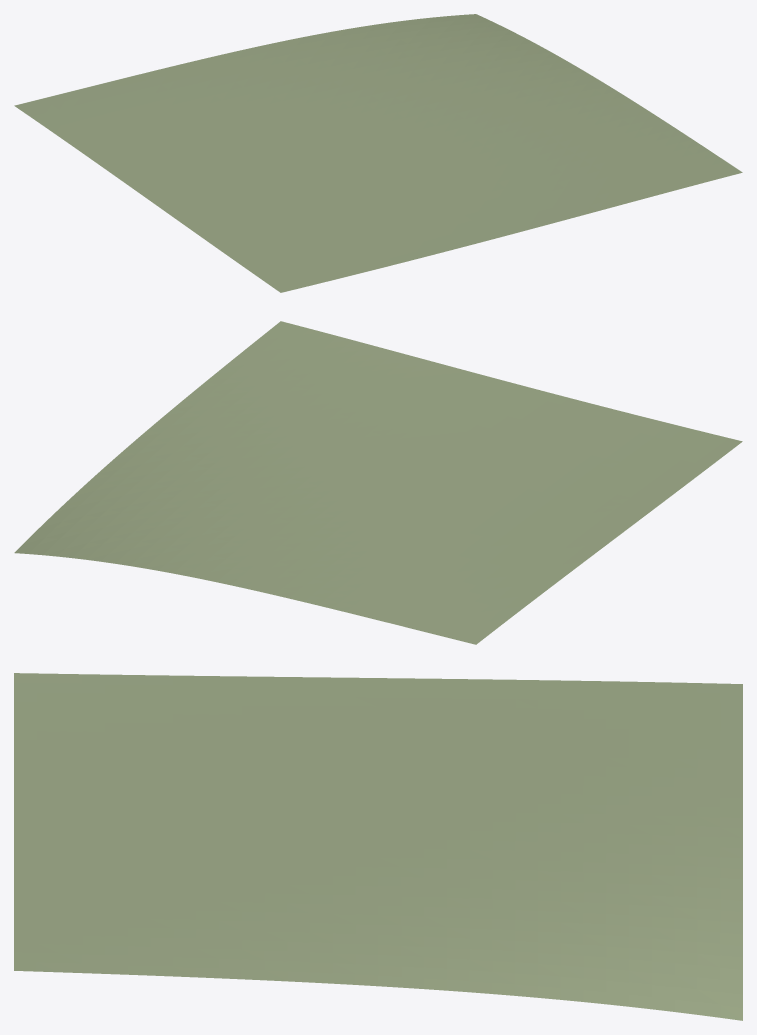
File: expanse-8-11.glb
The picture shows the model from 3 angles, top to bottom: view 1: azimuth 30°, elevation 25°; view 2: azimuth 150°, elevation 25°; view 3: azimuth 270°, elevation 25°; orthographic projection. The views are drawn at different scales.
Visible parts, largest first — view 1: expanse-8-11; view 2: expanse-8-11; view 3: expanse-8-11.
Part boxes in pixels (x1,y1,x2,y2): expanse-8-11: (14, 14, 742, 292); expanse-8-11: (14, 321, 742, 644); expanse-8-11: (14, 673, 742, 1020).
Bounding box in the file's own units: 256 × 19.4 × 256.
